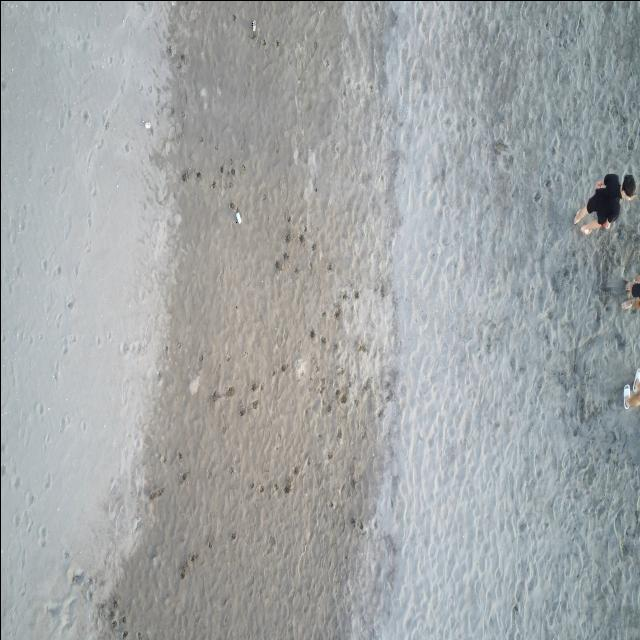Garbage: (235, 211, 240, 223), (251, 20, 256, 32), (143, 120, 150, 128)
